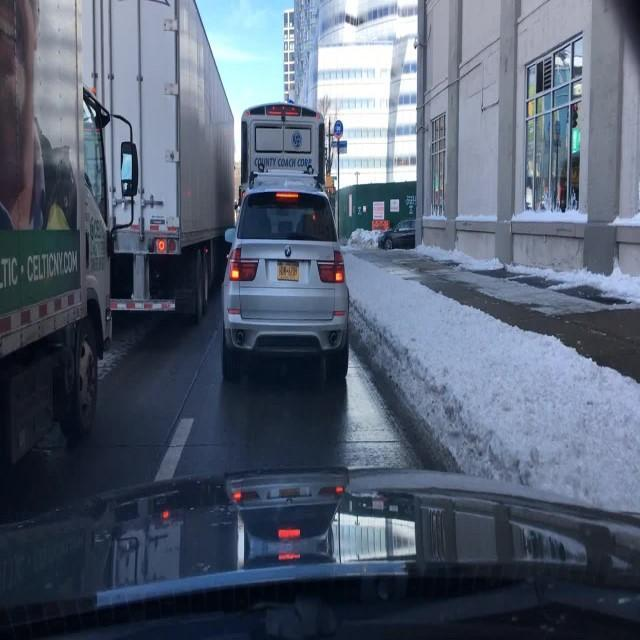normal: (0, 0, 132, 466), (85, 4, 238, 321), (217, 86, 362, 395), (376, 222, 416, 250)
